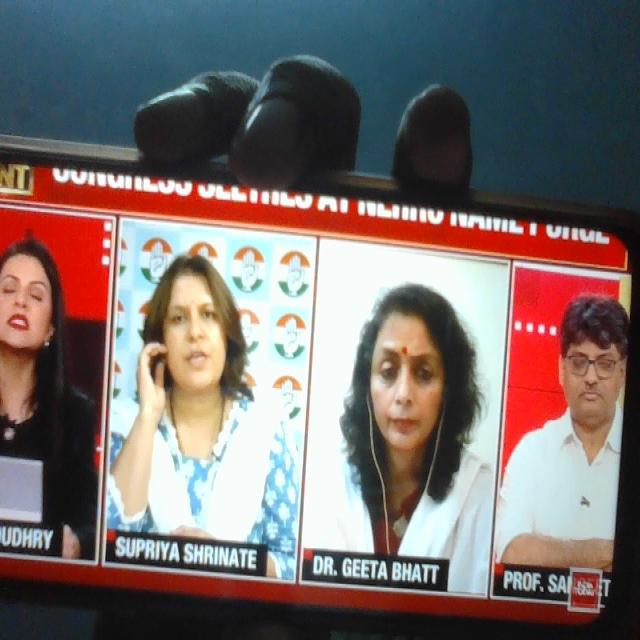fake: (355, 282, 463, 486)
